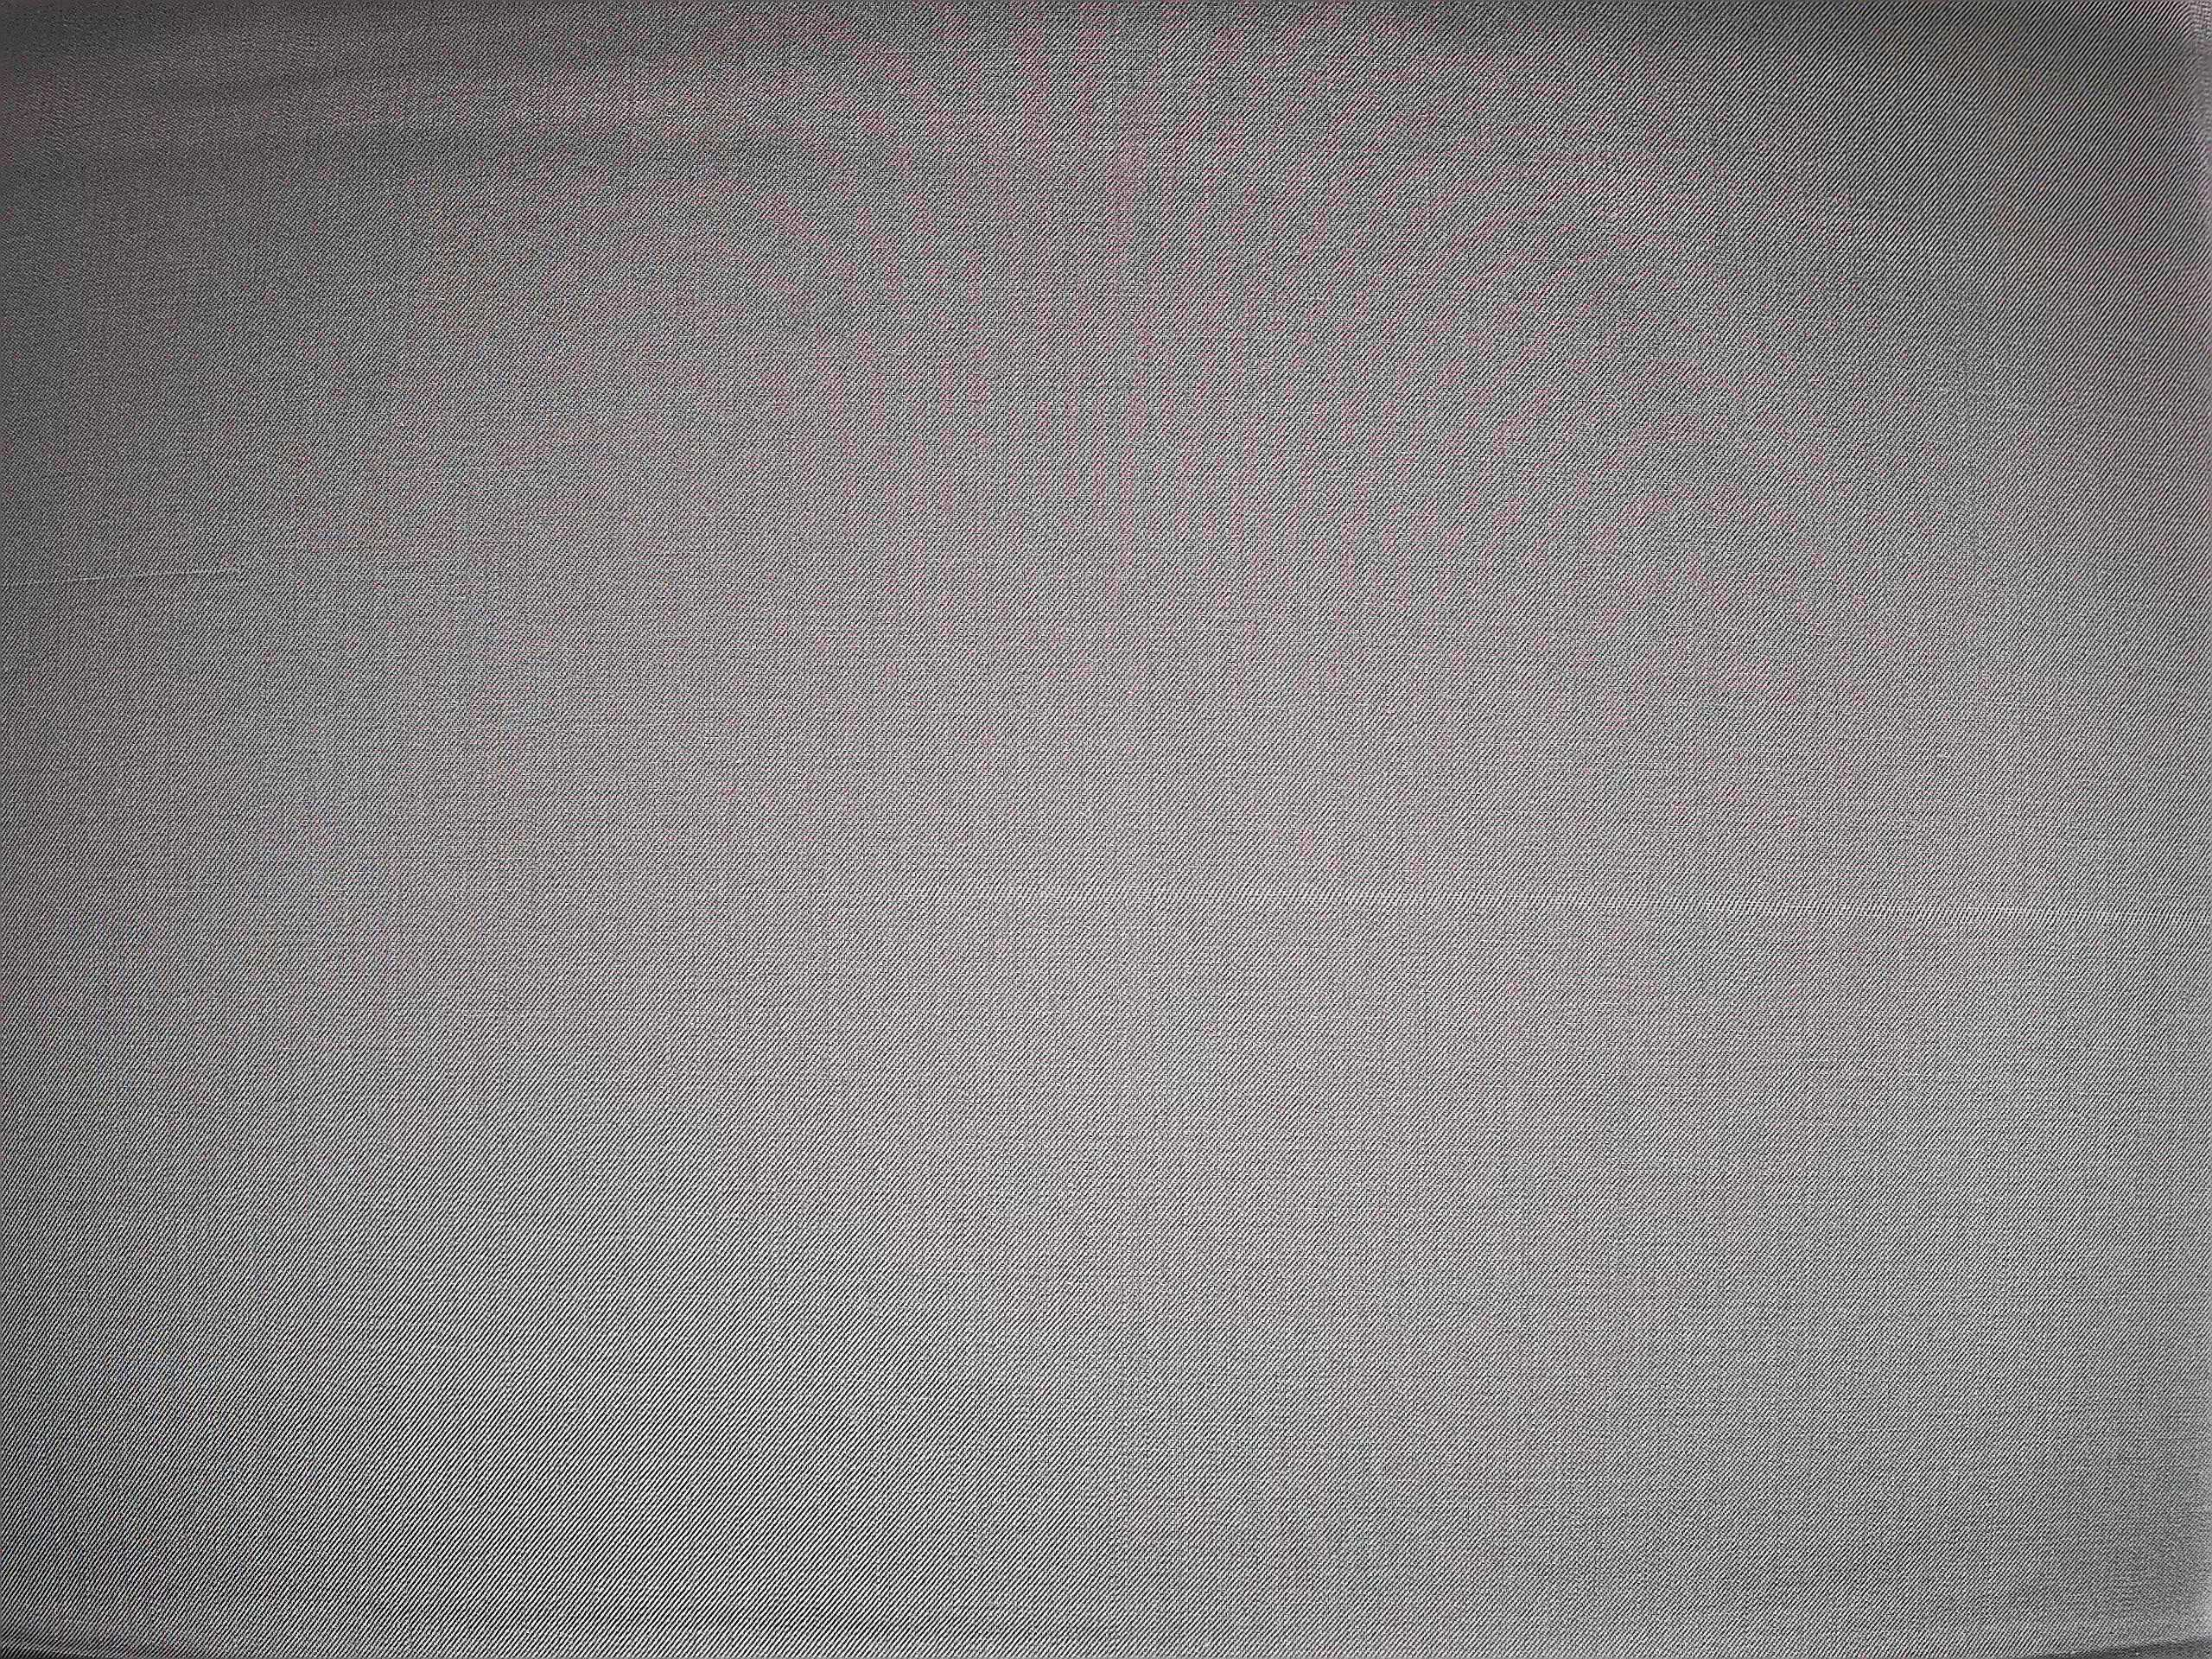others: (5, 554, 251, 601)
thin-spinning: (655, 854, 2212, 946)
